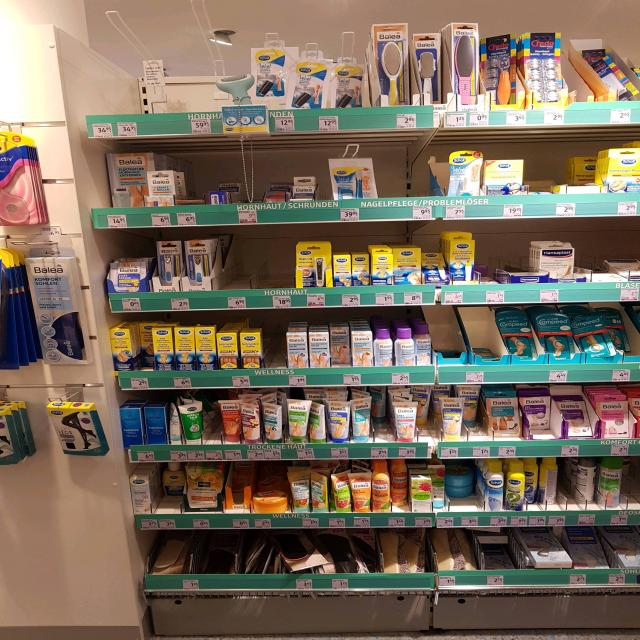empty: (223, 234, 300, 295), (377, 148, 443, 202), (583, 230, 633, 293), (474, 233, 510, 284)
